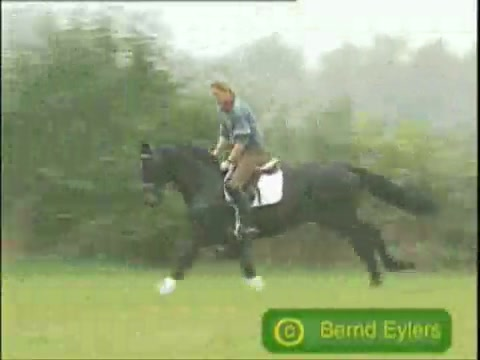horse: (138, 140, 440, 291)
